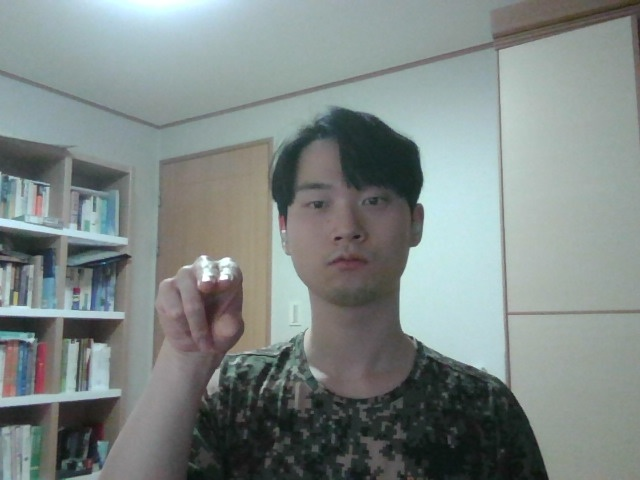no: (139, 234, 280, 388)
